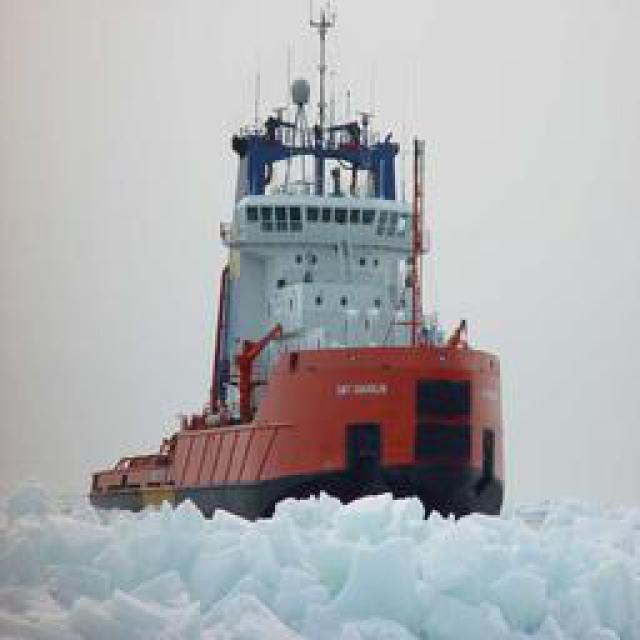Ship: (115, 20, 505, 528)
